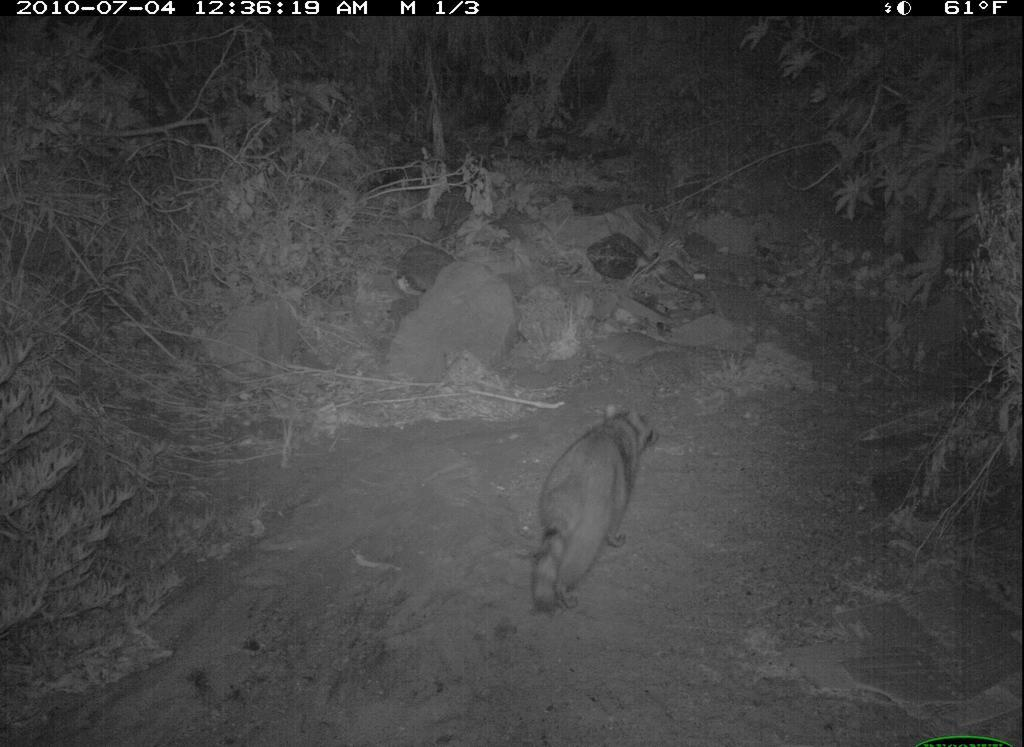raccoon: (516, 405, 669, 611)
